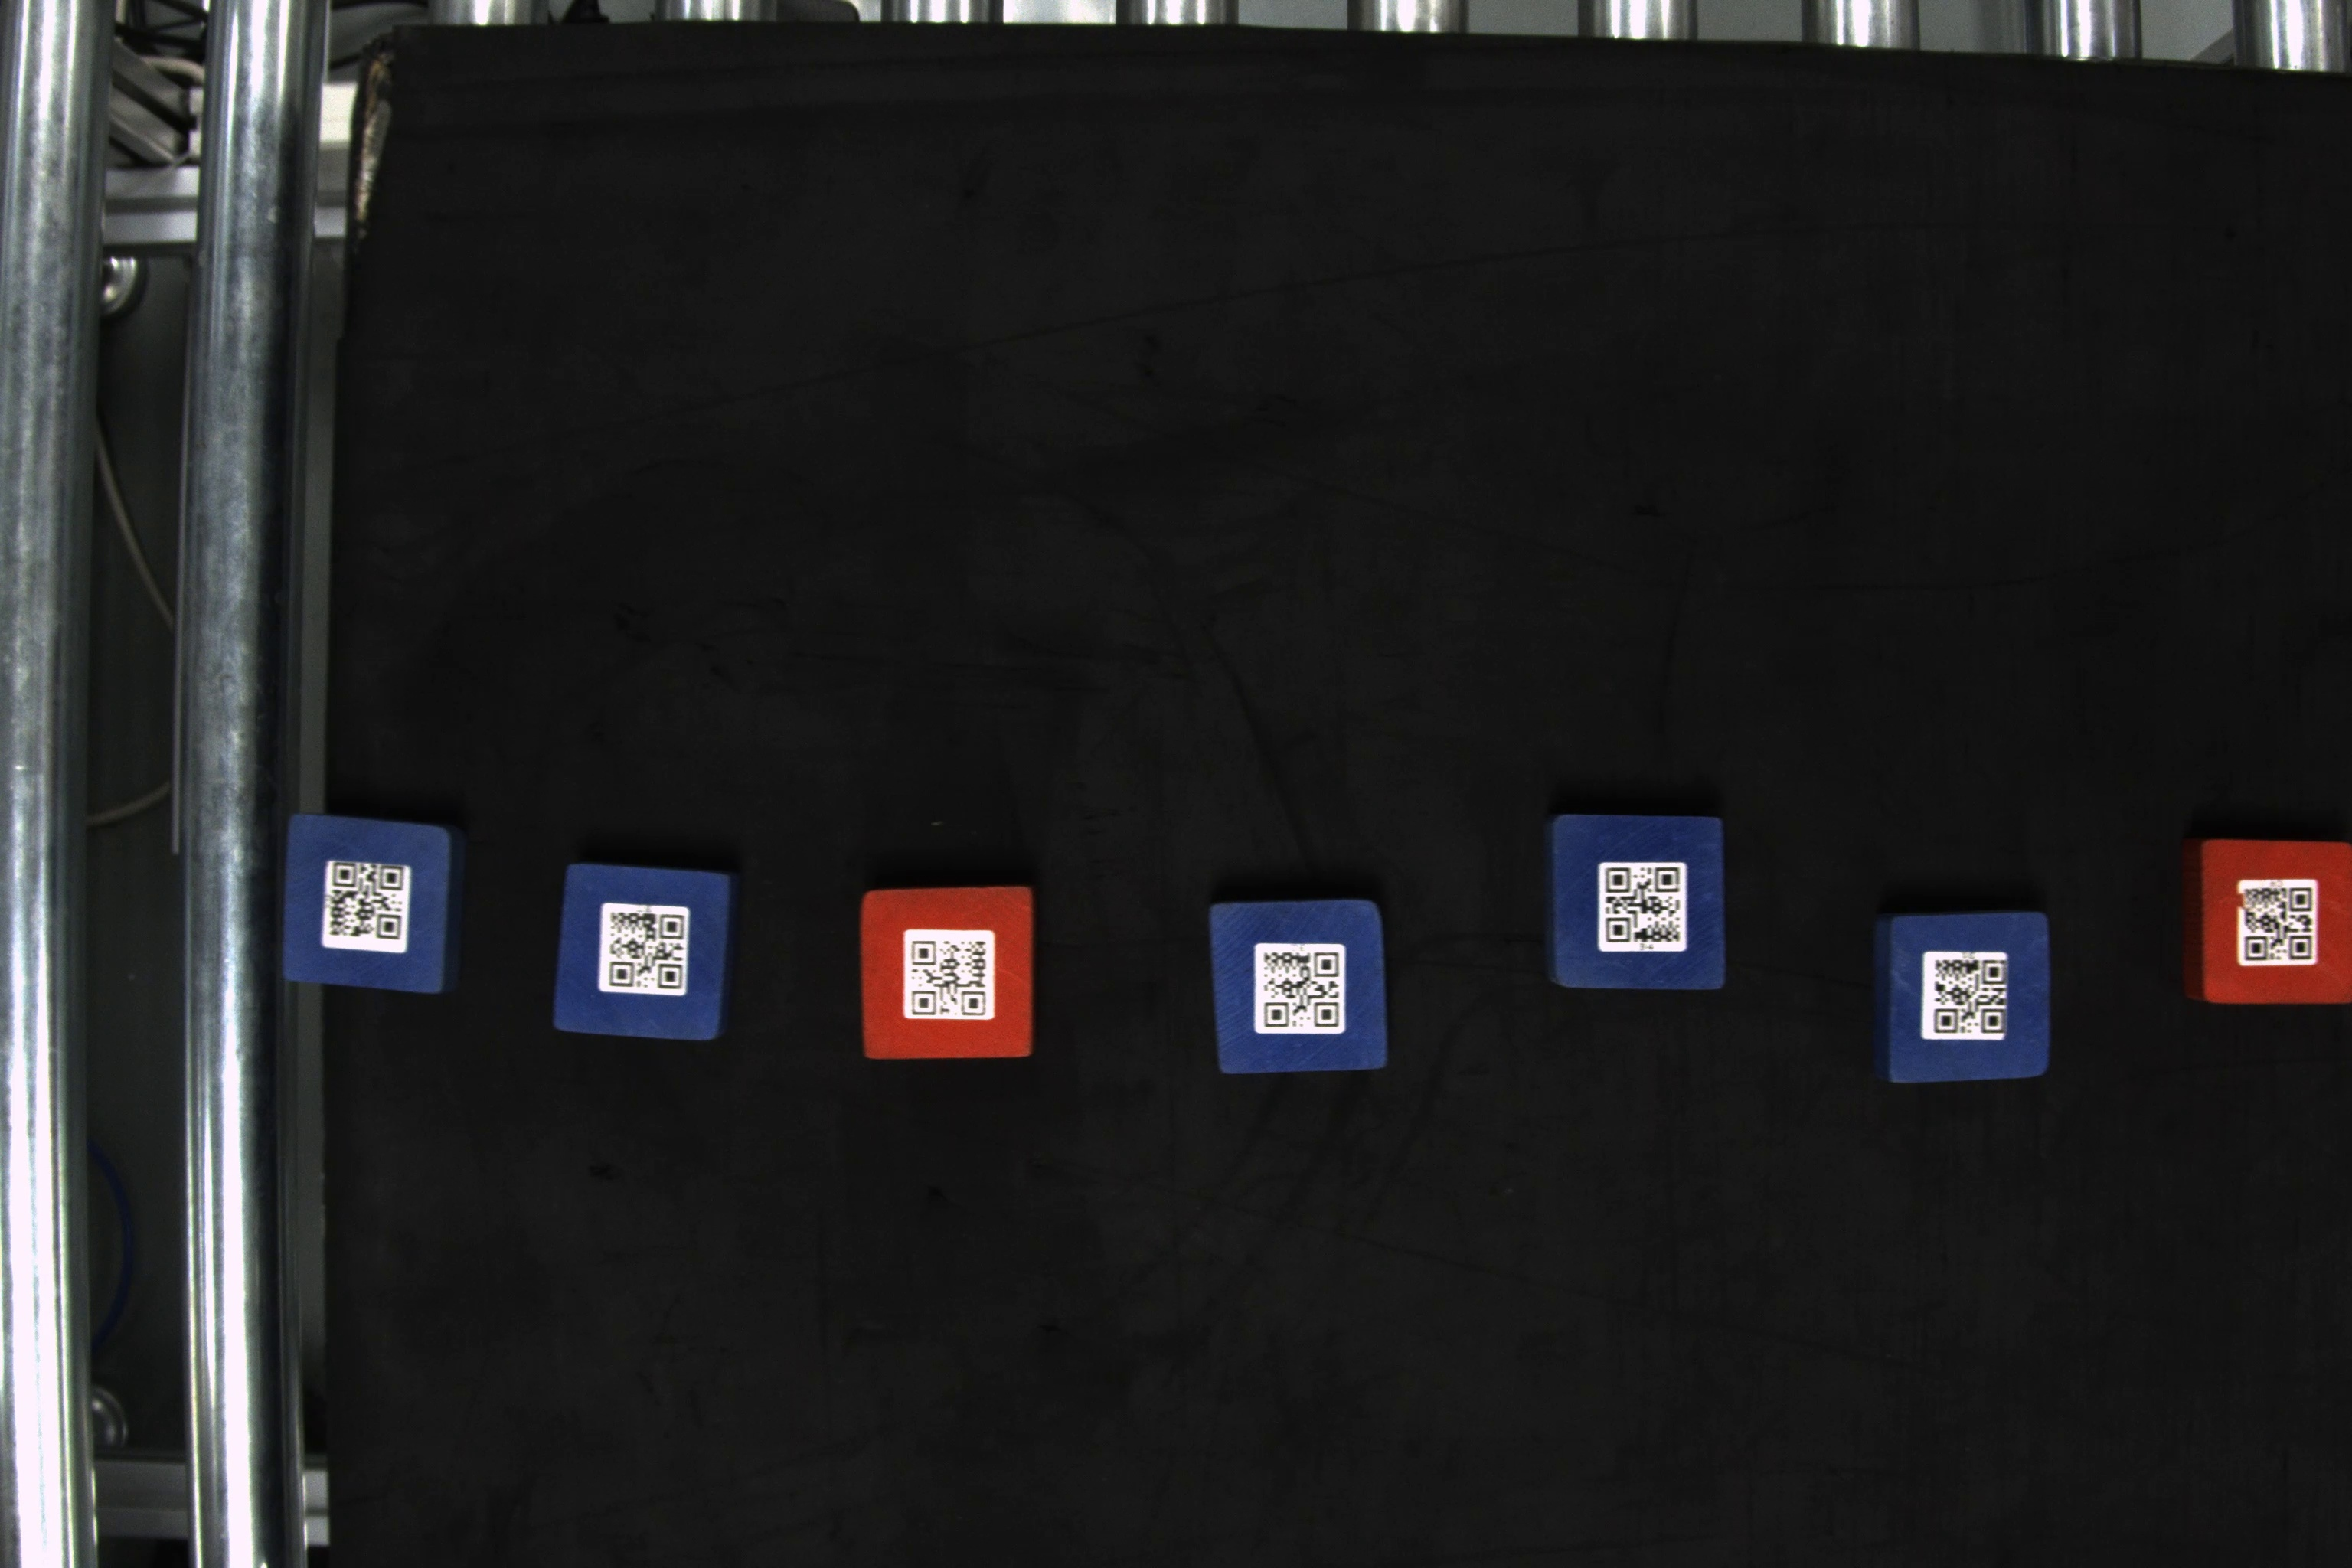wood: (276, 814, 478, 1001), (1543, 808, 1734, 994), (560, 857, 744, 1046), (854, 884, 1041, 1066), (1204, 896, 1391, 1078), (1867, 910, 2056, 1088), (2182, 833, 2347, 1004)
